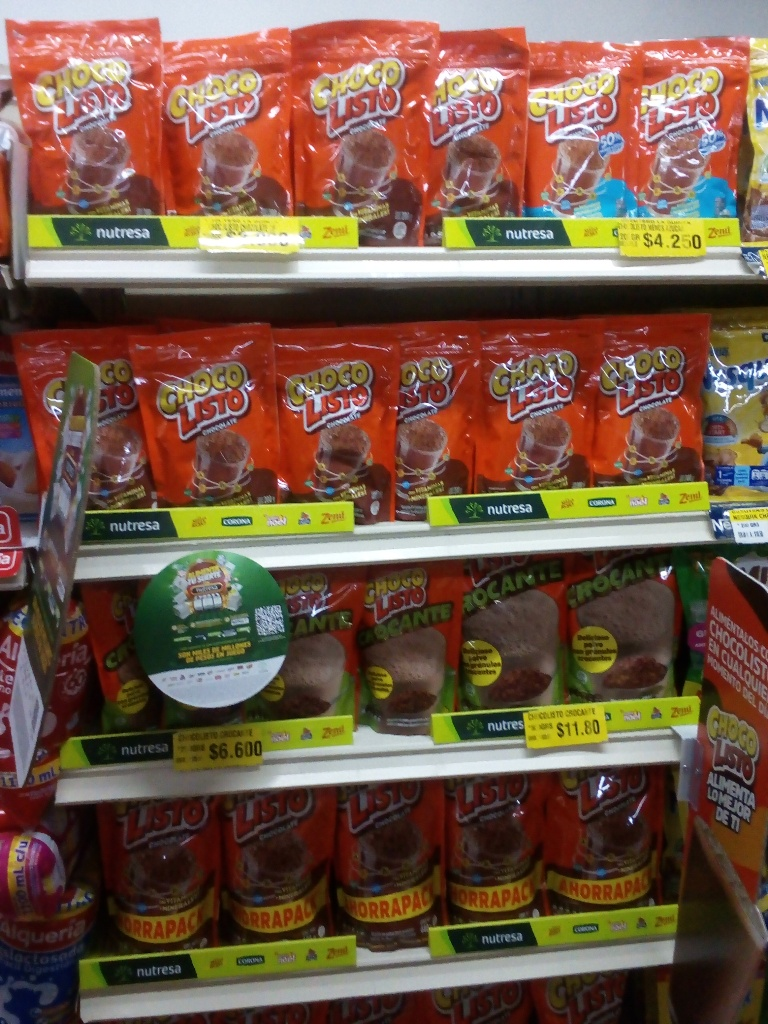COL0170102DYP50000: (563, 549, 691, 703)
COL0170103DYP44000: (548, 768, 674, 912)
COL0170104DYP20000: (625, 37, 747, 216)
COL0170303DYP20000: (703, 319, 768, 497)
